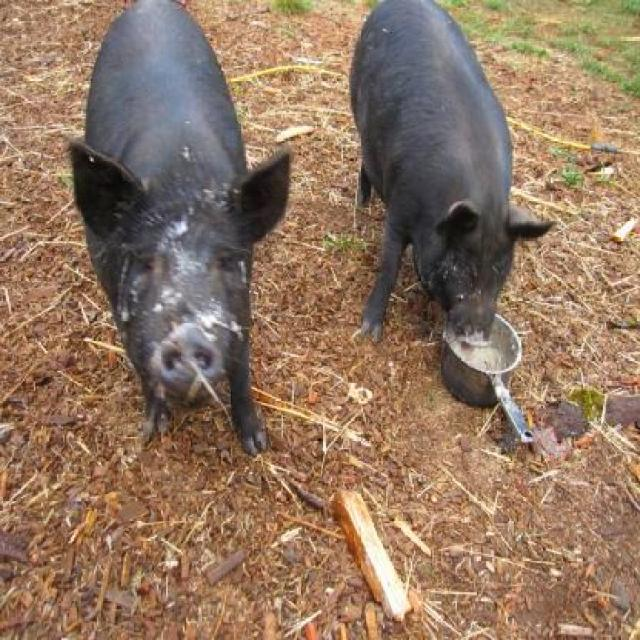Boar: (66, 0, 294, 454), (348, 0, 558, 346)
